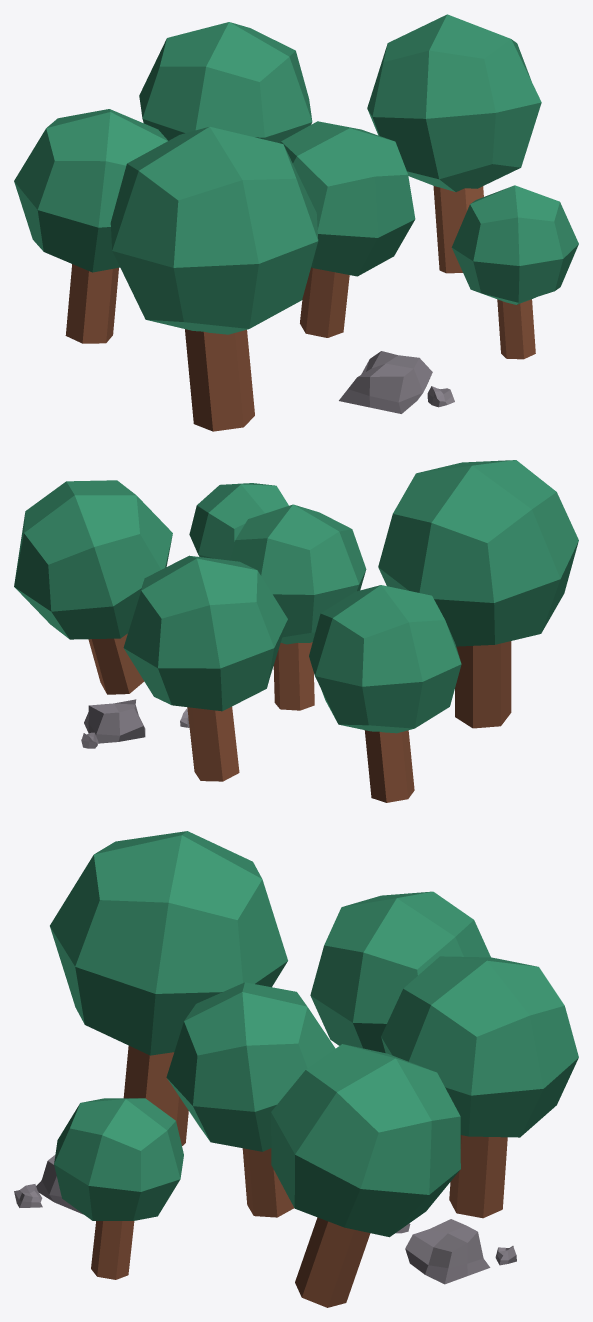
The model's file is Forest2.fbx.
3 views of the same model, one above another, from view 1: azimuth 30°, elevation 25°; view 2: azimuth 150°, elevation 25°; view 3: azimuth 270°, elevation 25° (orthographic). The views are drawn at different scales.
Visible parts, largest first — view 1: Forest2; view 2: Forest2; view 3: Forest2.
Boxes of the visible parts, bbox=[...] form: Forest2: bbox=[14, 14, 578, 431]; Forest2: bbox=[14, 460, 578, 802]; Forest2: bbox=[14, 831, 578, 1307].
Bounding box in the file's own units: 0.9535 × 0.5147 × 0.8518.
